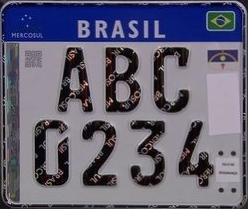Placa_mercosul_carro: (3, 4, 244, 205)
